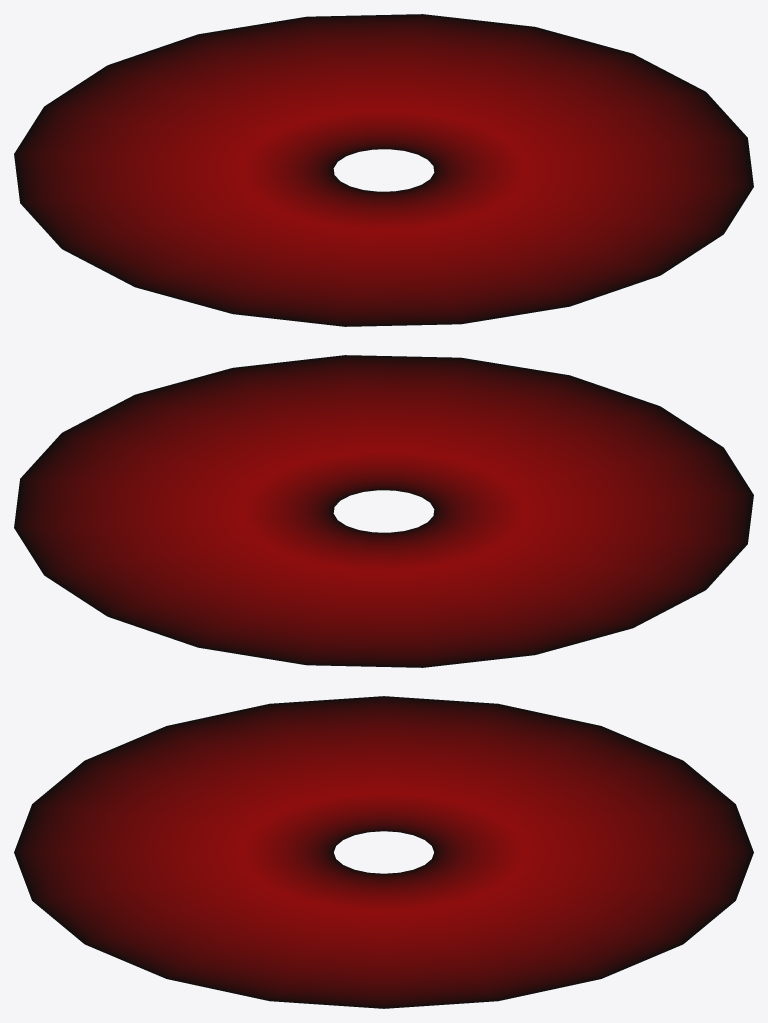
File: SplashRings.fbx
The picture shows the model from 3 angles, top to bottom: view 1: azimuth 30°, elevation 25°; view 2: azimuth 150°, elevation 25°; view 3: azimuth 270°, elevation 25°; orthographic projection.
Visible parts, largest first — view 1: pCylinder2; view 2: pCylinder2; view 3: pCylinder2.
Boxes of the visible parts, x1,y1,x2,y2 form: pCylinder2: (14, 14, 753, 326); pCylinder2: (14, 355, 753, 667); pCylinder2: (14, 696, 753, 1008).
Bounding box in the file's own units: 5968 × 3.69e-13 × 5968.
